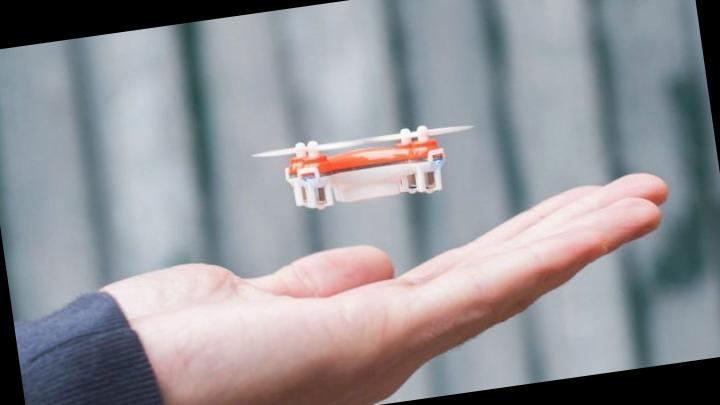drone: (222, 100, 488, 232)
